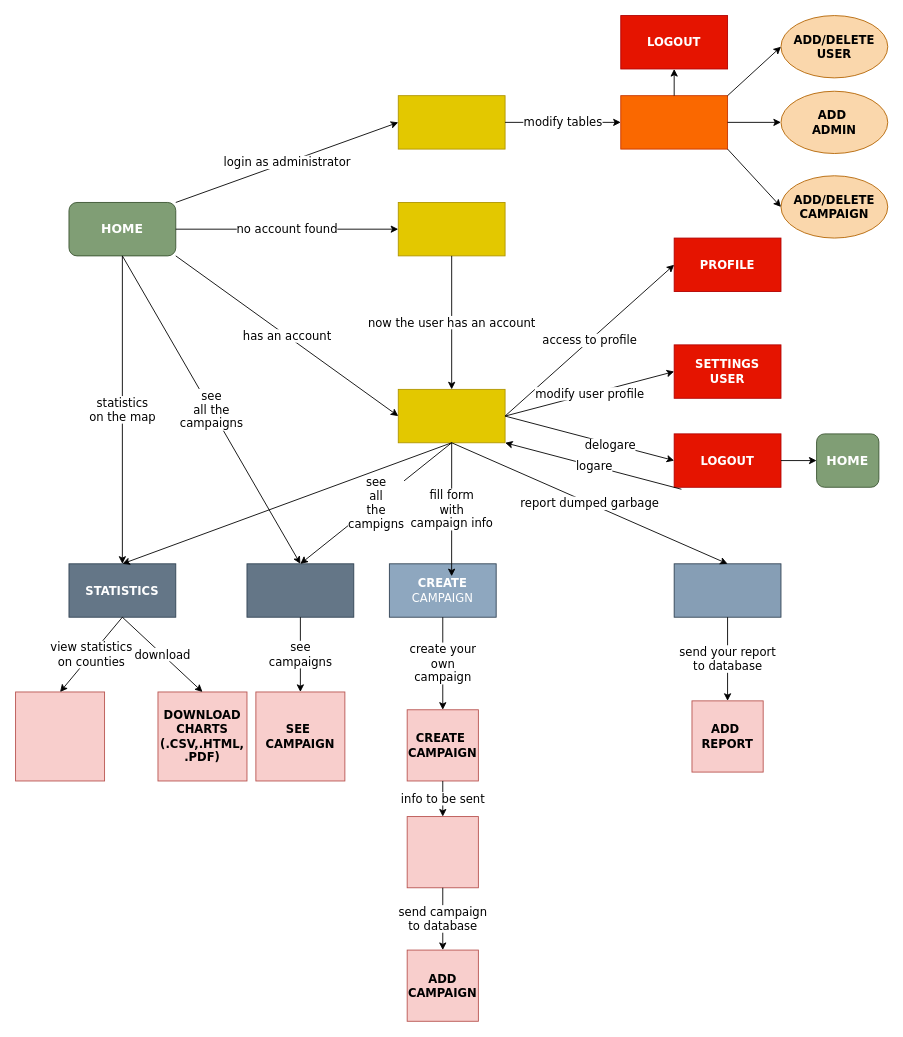
Some shapes in this 903 by 1037 pixel diagram are drawn without their labels. Each missing label, with the centre of its shape:
CAMPAIGN: [300,590]
CONTROL PANEL: [674,122]
LOGIN ADMIN: [451,122]
LOGIN USER: [451,415]
REPORT: [727,590]
SEE INFO CAMPAIGN: [442,852]
SEE STATISTICS: [60,736]
SIGN UP: [451,229]
